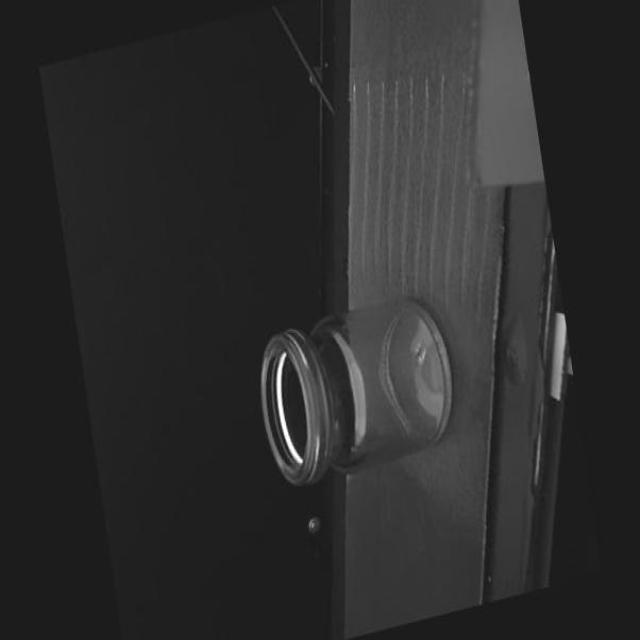defect: (348, 445, 358, 453)
glass: (247, 281, 461, 498)
